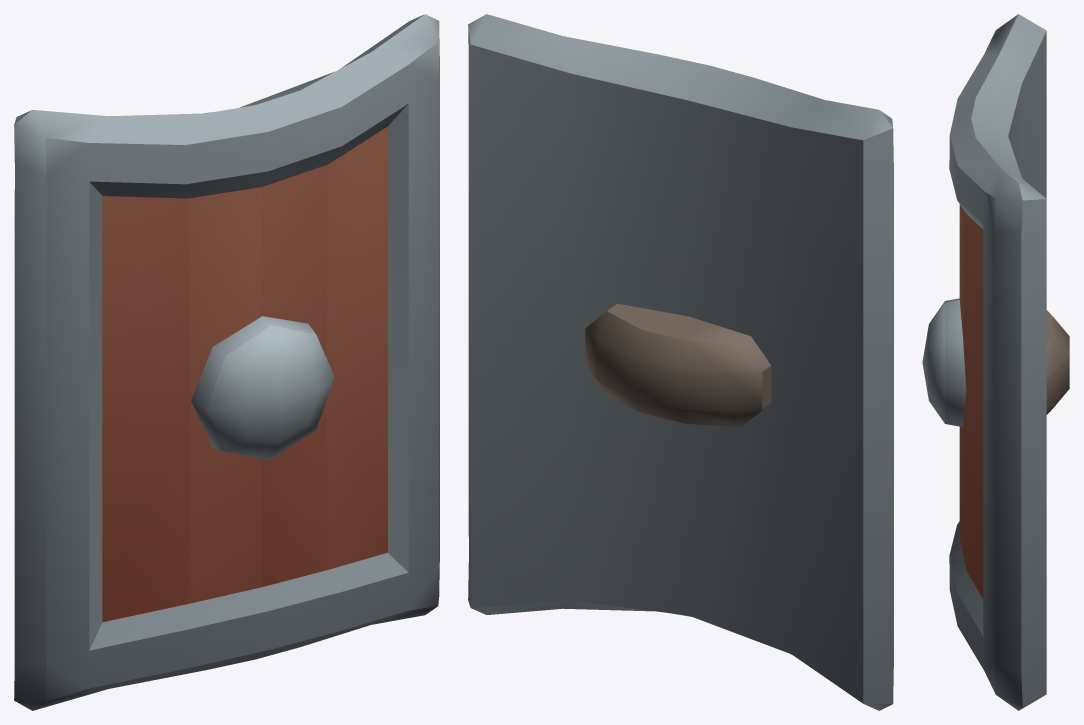
3 views of the same model, side by side, from view 1: azimuth 30°, elevation 25°; view 2: azimuth 150°, elevation 25°; view 3: azimuth 270°, elevation 25° (orthographic). The views are drawn at different scales.
Visible parts, largest first — view 1: shield_square; view 2: shield_square; view 3: shield_square.
Part boxes in pixels (left/top/right/bottom): shield_square: left=14, top=14, right=439, bottom=710; shield_square: left=468, top=14, right=893, bottom=710; shield_square: left=922, top=14, right=1069, bottom=710.
Size of the model in its own units: 0.8826 by 1.19 by 0.3011.
Materials: 1 (1 with a texture image).
